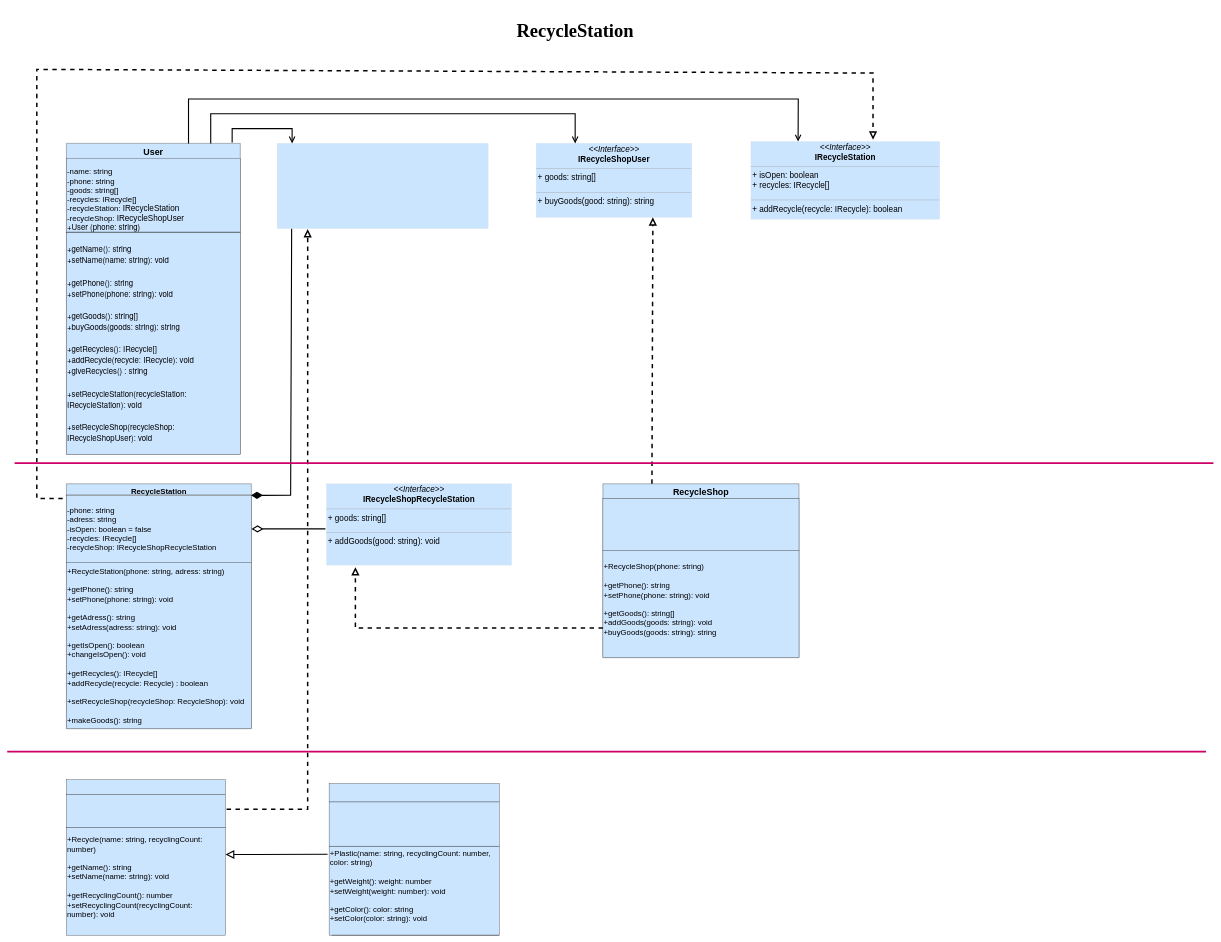
This 1221x942 diagram has some shape labels left out. Each missing label, with the centre of its shape:
#name: string #recyclingCount: number: pixel 146 811
-phone: string -goods: string[]: pixel 701 524
-weight: number = 0 -color: string: pixel 414 824
<<Interface>> IRecycle + name: string + recyclingCount: number: pixel 382 185
Plastic: pixel 414 792
Recycle: pixel 146 787
